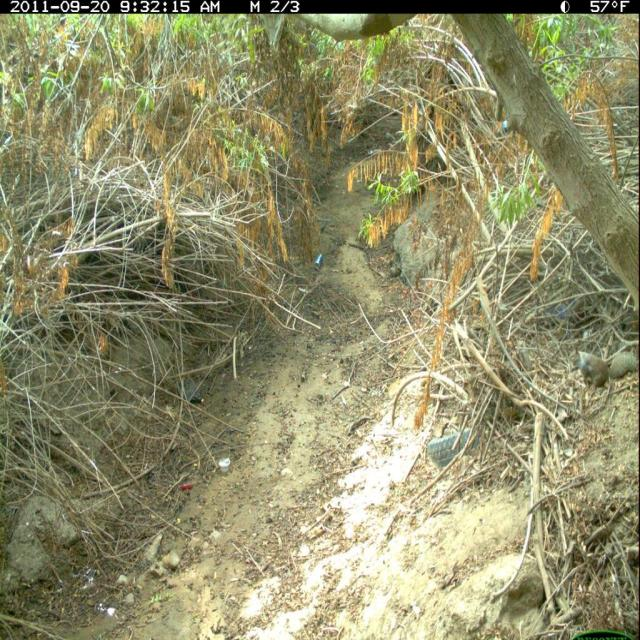squirrel: (559, 340, 640, 402)
